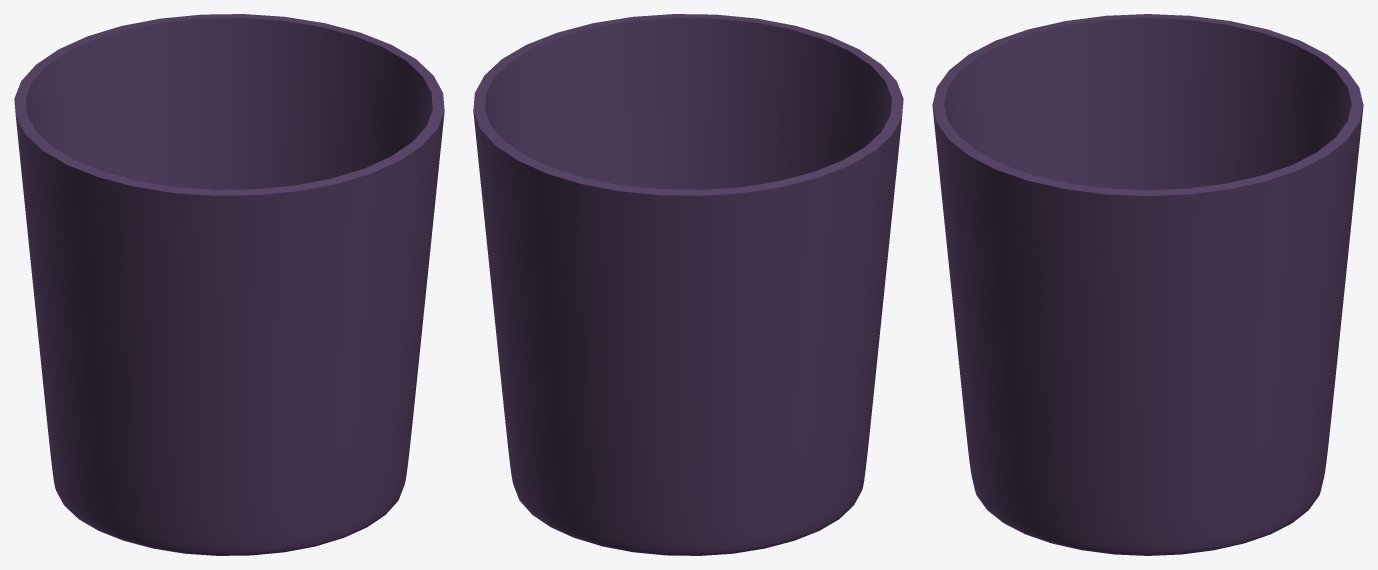
File: basket.fbx
3 renders of one model, left to right at view 1: azimuth 30°, elevation 25°; view 2: azimuth 150°, elevation 25°; view 3: azimuth 270°, elevation 25°, orthographic.
Parts seen in each view (by area): view 1: Basket; view 2: Basket; view 3: Basket.
Part boxes in pixels (x1=…): Basket: x1=14, y1=14, x2=444, y2=555; Basket: x1=473, y1=14, x2=903, y2=555; Basket: x1=932, y1=14, x2=1363, y2=555.
Size of the model in its own units: 527 by 515 by 527.
